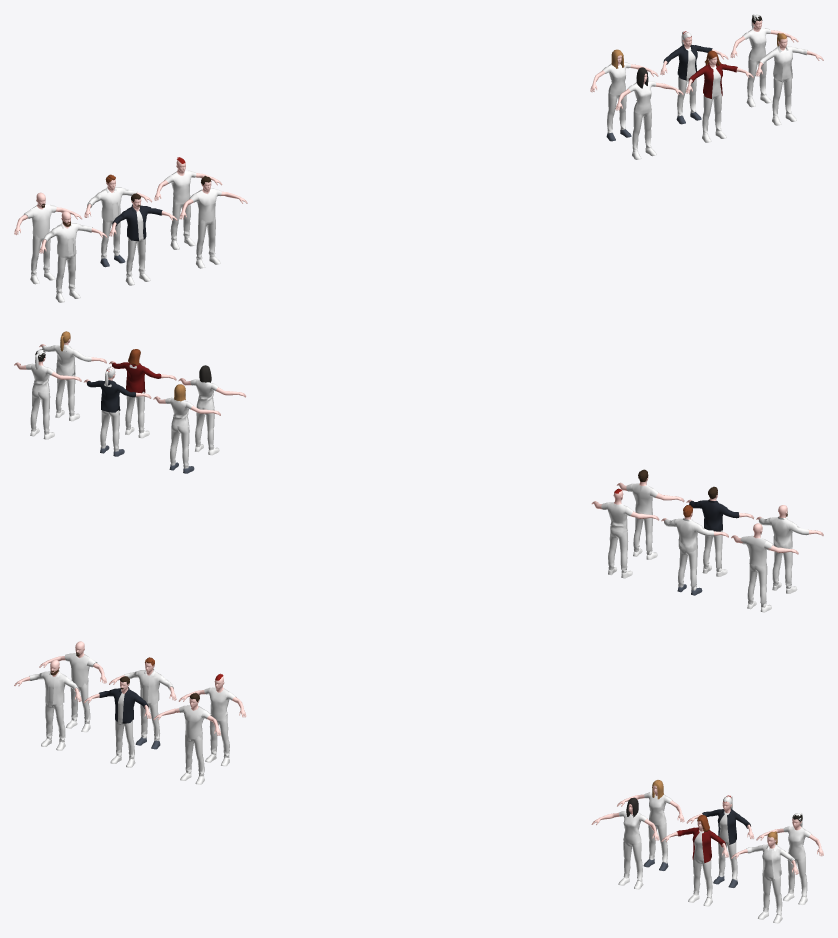
The model's file is Characters Male&Female.fbx.
The picture shows the model from 3 angles, top to bottom: view 1: azimuth 30°, elevation 25°; view 2: azimuth 150°, elevation 25°; view 3: azimuth 330°, elevation 25°; orthographic projection.
Parts seen in each view (by area): view 1: Male 06, Male 04, Female 04, Female 05, Male 03, Male 05, Female 01, Female 06, Male 02, Male 01, Female 03, Female 02; view 2: Male 05, Male 02, Male 06, Female 06, Male 01, Male 04, Female 03, Male 03, Female 04, Female 05, Female 02, Female 01; view 3: Male 06, Male 04, Female 04, Female 05, Male 03, Female 01, Male 05, Female 06, Male 01, Male 02, Female 03, Female 02.
Boxes of the visible parts, box(x1,y1,x2,y2) form: Male 06: box(39, 211, 107, 302); Male 04: box(109, 193, 177, 285); Female 04: box(685, 50, 753, 142); Female 05: box(755, 33, 823, 125); Male 03: box(179, 175, 247, 268); Male 05: box(84, 174, 152, 267); Female 01: box(615, 67, 683, 159); Female 06: box(660, 31, 728, 124); Male 02: box(14, 192, 82, 284); Male 01: box(154, 157, 222, 249); Female 03: box(590, 49, 658, 141); Female 02: box(730, 14, 798, 107); Male 05: box(661, 505, 728, 595); Male 02: box(731, 523, 798, 612); Male 06: box(756, 505, 823, 593); Female 06: box(83, 366, 151, 456); Male 01: box(591, 488, 659, 578); Male 04: box(686, 486, 753, 576); Female 03: box(153, 384, 220, 473); Male 03: box(616, 469, 684, 559); Female 04: box(109, 349, 176, 438); Female 05: box(39, 331, 106, 421); Female 02: box(14, 349, 81, 439); Female 01: box(178, 365, 246, 455); Male 06: box(14, 659, 81, 750); Male 04: box(83, 676, 151, 767); Female 04: box(661, 815, 728, 906); Female 05: box(731, 831, 798, 923); Male 03: box(153, 692, 221, 784); Female 01: box(591, 797, 659, 889); Male 05: box(109, 657, 176, 749); Female 06: box(686, 795, 754, 887); Male 01: box(178, 673, 246, 766); Male 02: box(39, 641, 106, 732); Female 03: box(617, 780, 684, 870); Female 02: box(756, 812, 823, 904).
Bounding box in the file's own units: 1796 × 190 × 163.
